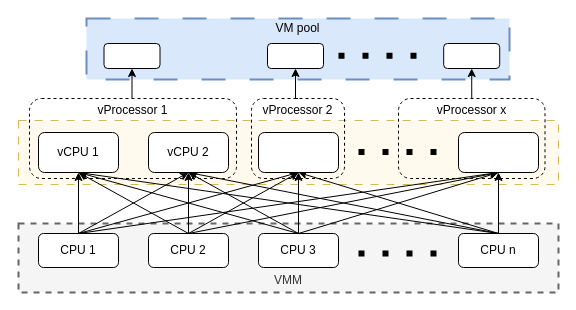
This 576x310 diagram has some shape labels left out. Here are the shapes that lost their labels. From the top down, the centre of each, then its label:
(x=131, y=55): VM 1
(x=295, y=55): VM 2
(x=471, y=55): VM x
(x=298, y=152): vCPU 3
(x=498, y=152): vCPU m
